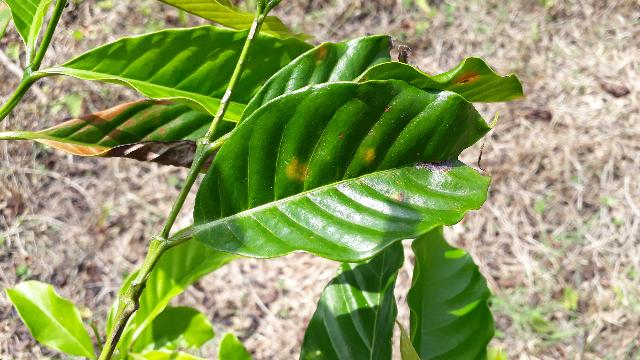rust_level_1: (174, 77, 507, 262)
